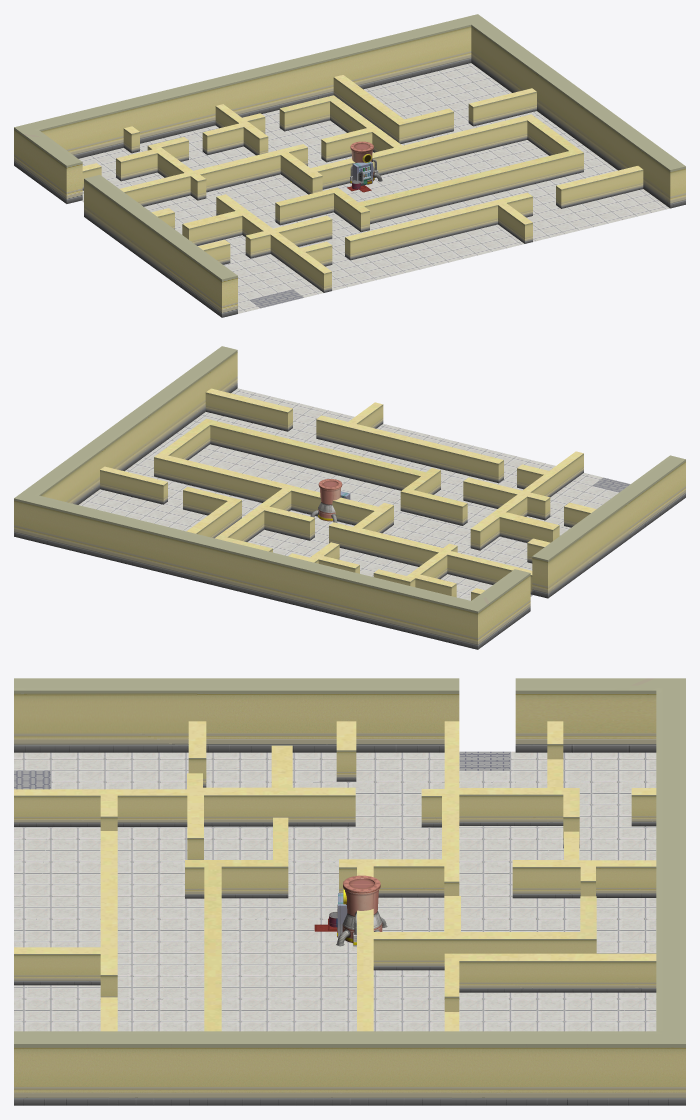
The picture shows the model from 3 angles, top to bottom: view 1: azimuth 30°, elevation 25°; view 2: azimuth 150°, elevation 25°; view 3: azimuth 270°, elevation 25°; orthographic projection. The views are drawn at different scales.
Visible parts, largest first — view 1: polySurface23, polySurface22, Floor2, SM_D_025_Furnace_01_0, Floor1; view 2: polySurface22, polySurface23, Floor2, SM_D_025_Furnace_01_0; view 3: Floor2, polySurface22, polySurface23, SM_D_025_Furnace_01_0, Floor, Floor1.
Boxes of the visible parts, left/top/right/bottom form: polySurface23: left=82, top=75, right=643, bottom=292; polySurface22: left=14, top=14, right=685, bottom=317; Floor2: left=79, top=63, right=669, bottom=313; SM_D_025_Furnace_01_0: left=350, top=141, right=382, bottom=184; Floor1: left=250, top=289, right=303, bottom=308; polySurface22: left=14, top=346, right=685, bottom=649; polySurface23: left=100, top=388, right=596, bottom=600; Floor2: left=79, top=388, right=618, bottom=600; SM_D_025_Furnace_01_0: left=310, top=479, right=342, bottom=522; Floor2: left=14, top=751, right=656, bottom=1031; polySurface22: left=14, top=678, right=685, bottom=1105; polySurface23: left=14, top=721, right=656, bottom=1031; SM_D_025_Furnace_01_0: left=336, top=875, right=387, bottom=946; Floor: left=459, top=751, right=509, bottom=770; Floor1: left=14, top=770, right=50, bottom=789.
Bounding box in the file's own units: 50.6 × 4.63 × 39.3.
Materials: 12 (12 with a texture image).
